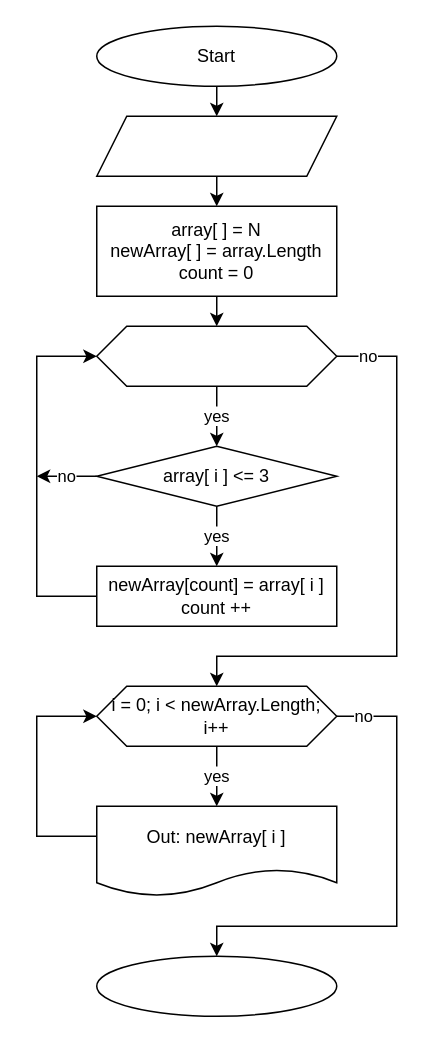
This 435x1043 diagram has some shape labels left out. The centre of each missing label's shape, as x and y in pixels:
"End" belongs at (x=216, y=985).
"i = 0; i < array.Length; i++" belongs at (x=216, y=355).
"N - ввод пользователем" belongs at (x=216, y=145).
